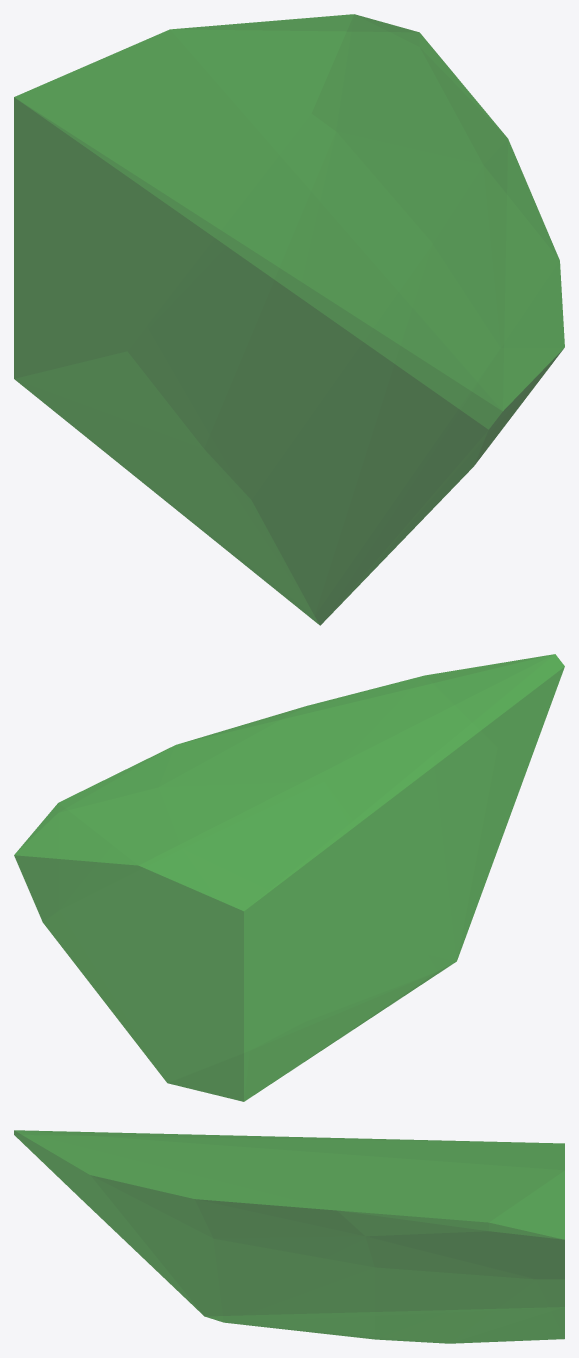
3 renders of one model, top to bottom at view 1: azimuth 30°, elevation 25°; view 2: azimuth 150°, elevation 25°; view 3: azimuth 270°, elevation 25°, orthographic. The views are drawn at different scales.
Parts seen in each view (by area): view 1: Shape_IndexedFaceSet.015_Shape_IndexedFaceSet.17993; view 2: Shape_IndexedFaceSet.015_Shape_IndexedFaceSet.17993; view 3: Shape_IndexedFaceSet.015_Shape_IndexedFaceSet.17993.
Part boxes in pixels (box(x1,y1,x2,y2)): Shape_IndexedFaceSet.015_Shape_IndexedFaceSet.17993: box(14, 14, 564, 625); Shape_IndexedFaceSet.015_Shape_IndexedFaceSet.17993: box(14, 654, 564, 1101); Shape_IndexedFaceSet.015_Shape_IndexedFaceSet.17993: box(14, 1130, 564, 1343).
Size of the model in its own units: 0.1842 by 0.1713 by 0.4396.
